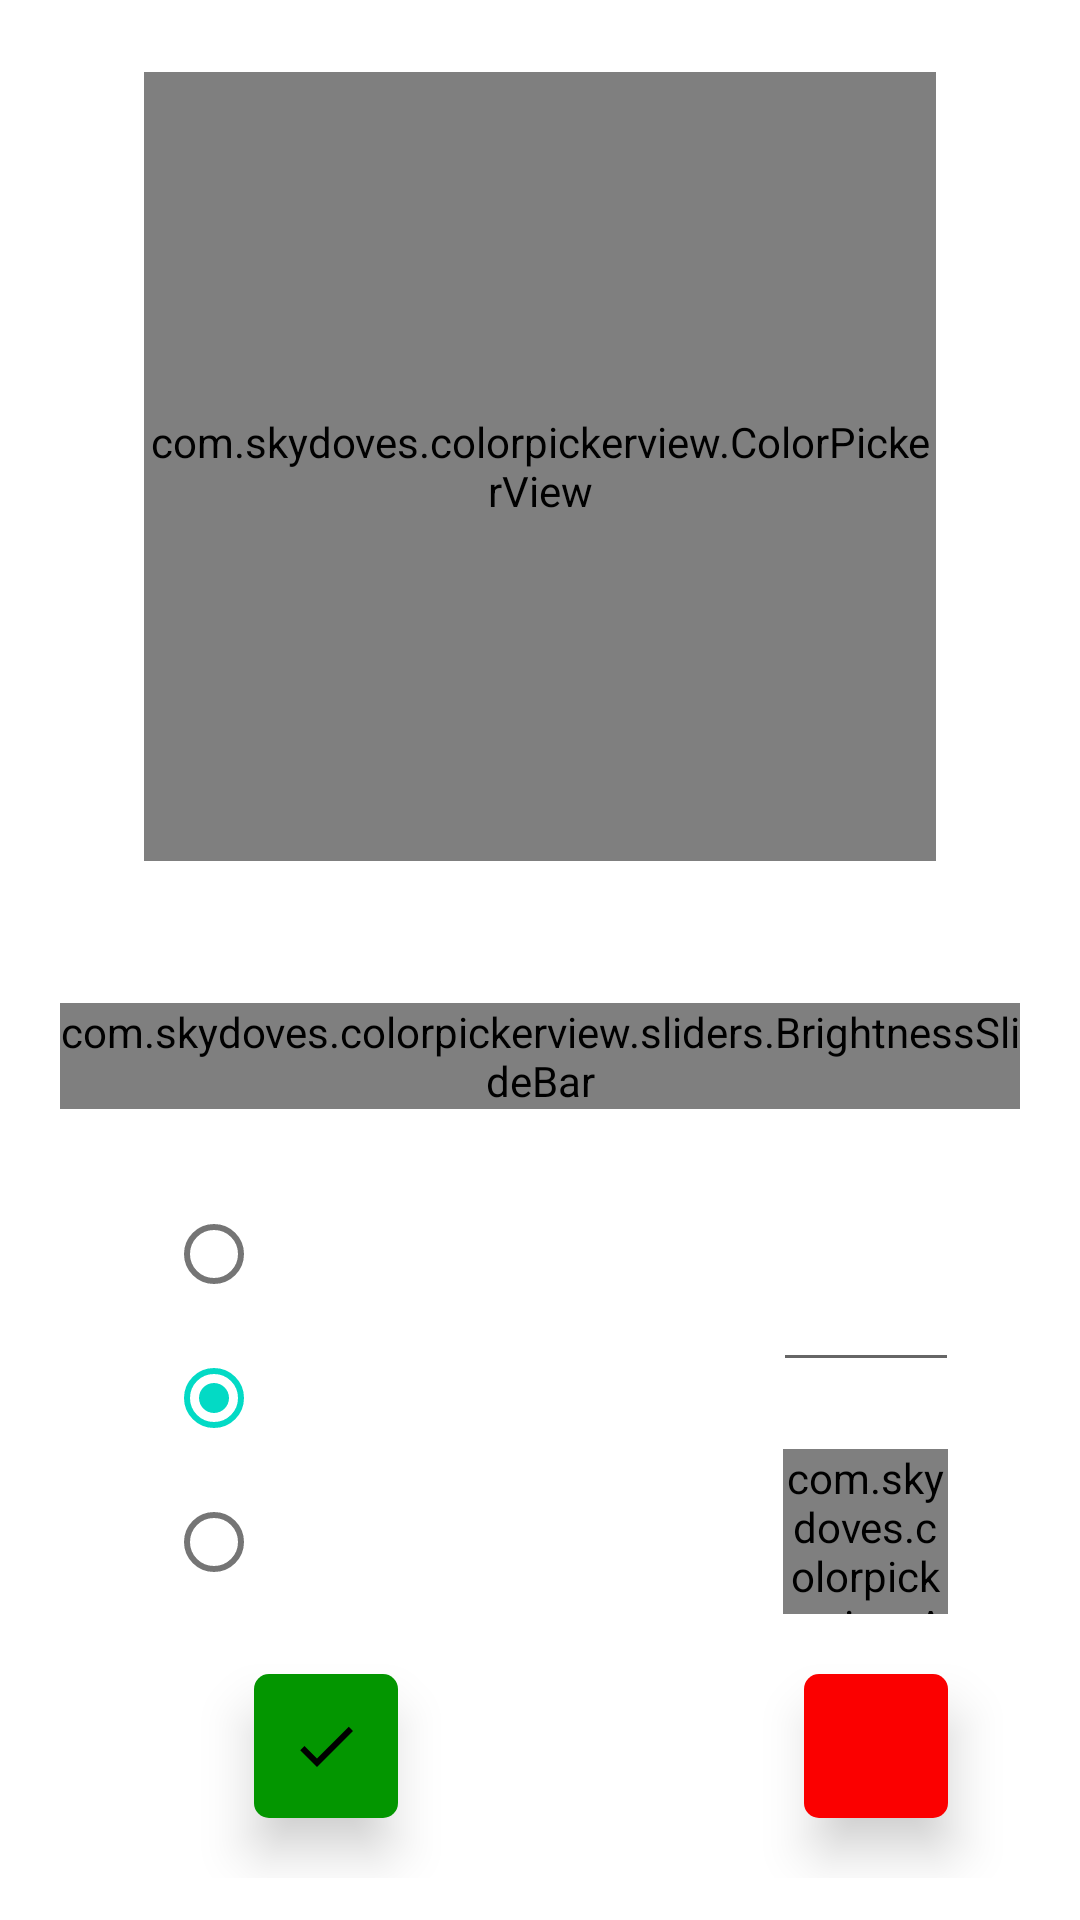

Point at icon controls on the screen. Image size 1080*1920, points as point (x, y).
Confirm: point (326, 1746)
